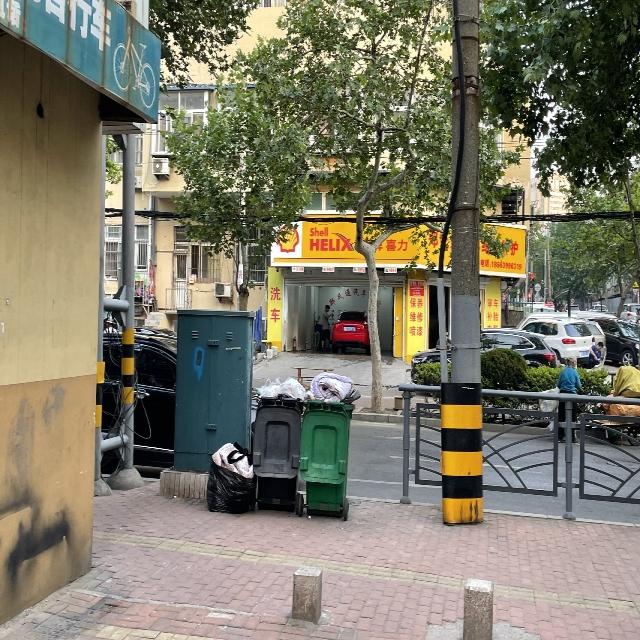garbage: (205, 442, 256, 513)
overflow: (299, 371, 360, 512), (252, 376, 305, 512)
